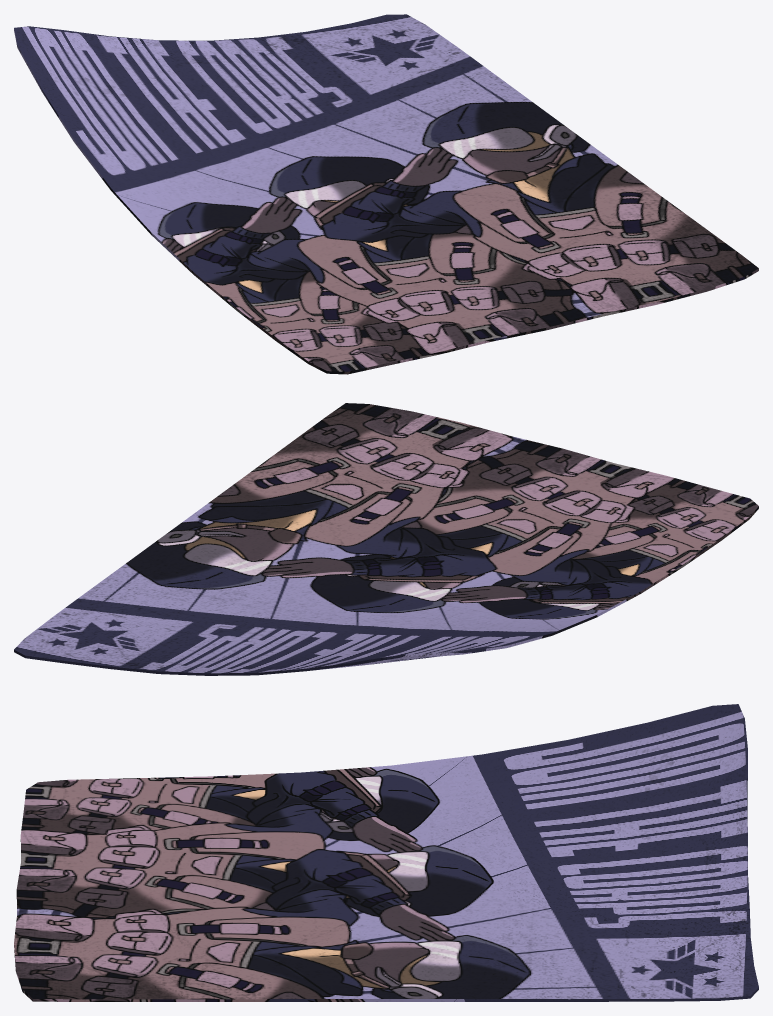
The model's file is propogandaposter.fbx.
The picture shows the model from 3 angles, top to bottom: view 1: azimuth 30°, elevation 25°; view 2: azimuth 150°, elevation 25°; view 3: azimuth 270°, elevation 25°; orthographic projection. The views are drawn at different scales.
Parts seen in each view (by area): view 1: pasted__pPlane1; view 2: pasted__pPlane1; view 3: pasted__pPlane1.
Part boxes in pixels (bbox=[...]): pasted__pPlane1: bbox=[14, 14, 758, 374]; pasted__pPlane1: bbox=[14, 403, 758, 675]; pasted__pPlane1: bbox=[14, 704, 758, 1001].
Bounding box in the file's own units: 0.1701 × 0.034 × 0.2436.
Materials: 1 (1 with a texture image).
